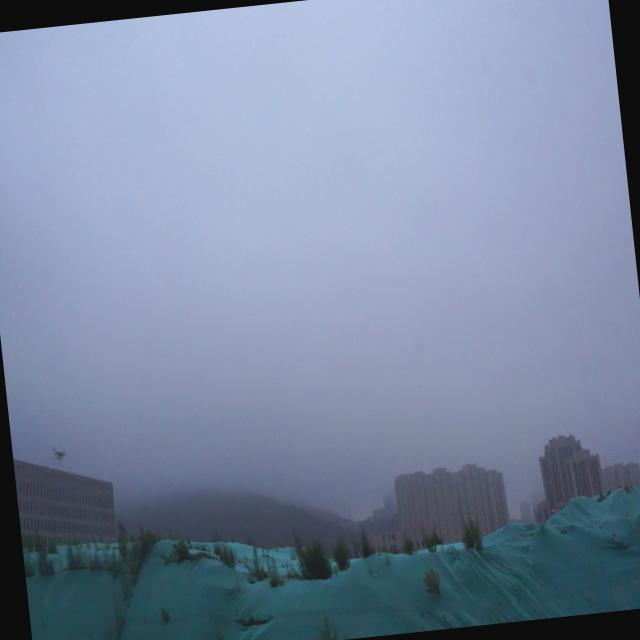drone: (48, 442, 70, 465)
